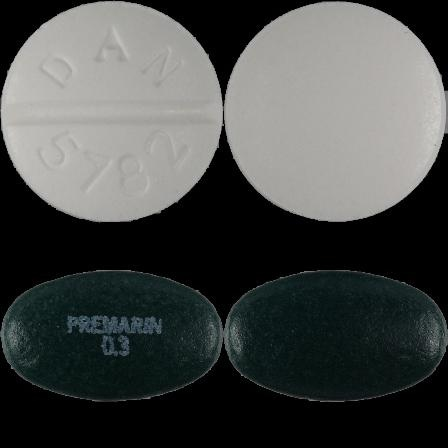54868-2683: (0, 0, 224, 224)
